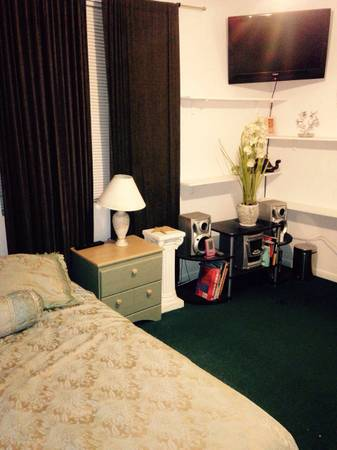bed: (1, 258, 296, 450)
lamp: (96, 175, 148, 246)
night stand: (72, 237, 162, 321)
